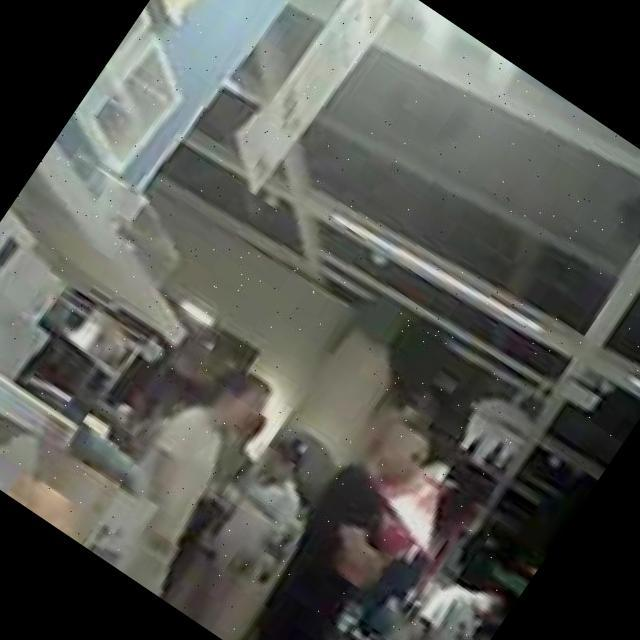person: (218, 394, 471, 640), (77, 348, 293, 600), (160, 429, 330, 636), (336, 550, 519, 640)
